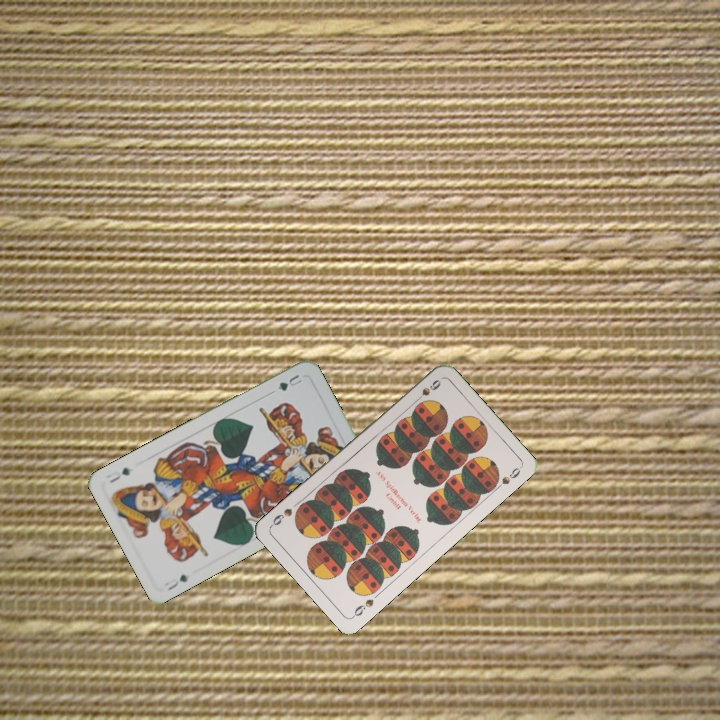GU: (273, 370, 306, 394), (163, 570, 190, 593)
S9: (409, 375, 444, 406), (348, 595, 376, 621)
